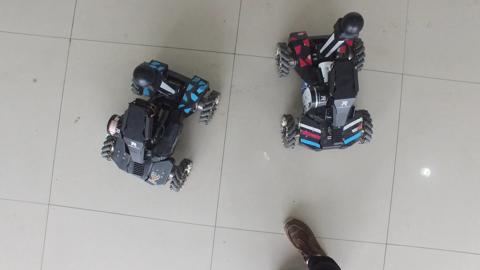chariot: (93, 54, 225, 203), (274, 9, 383, 159)
